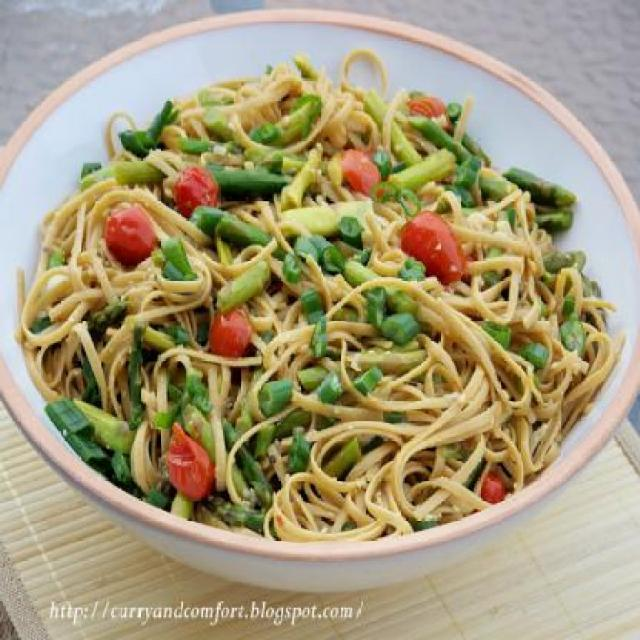Oil pasta: (34, 39, 620, 567)
